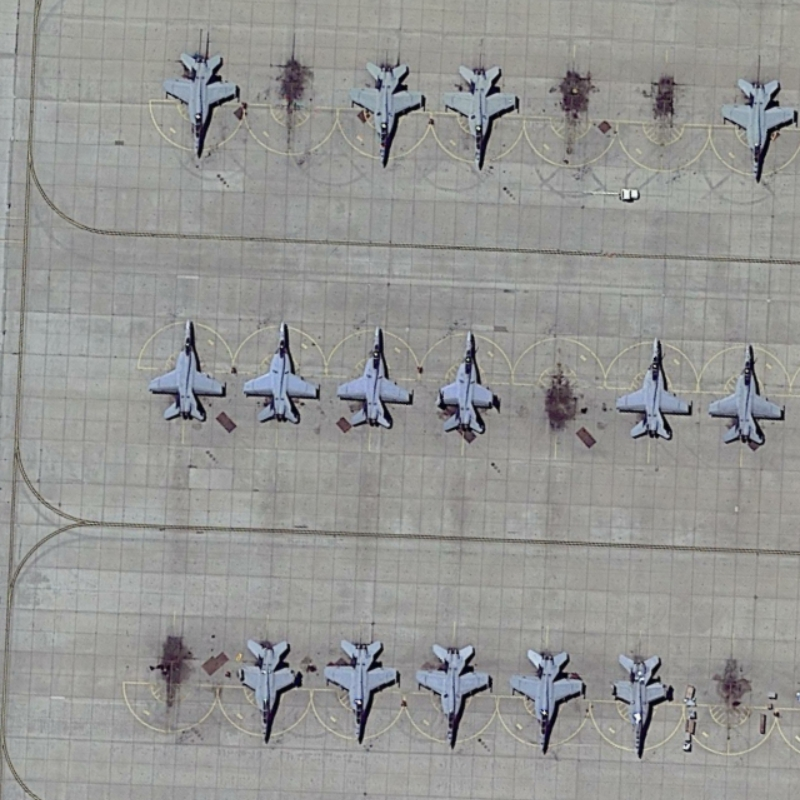A16: (609, 331, 698, 448), (504, 643, 591, 759), (319, 633, 404, 749), (158, 50, 245, 163), (141, 314, 228, 426), (342, 56, 425, 173), (716, 73, 800, 188), (332, 321, 416, 436), (412, 639, 496, 754), (440, 59, 523, 175), (704, 340, 788, 453), (240, 316, 324, 426), (235, 635, 309, 747), (607, 646, 675, 764), (432, 323, 501, 437)
